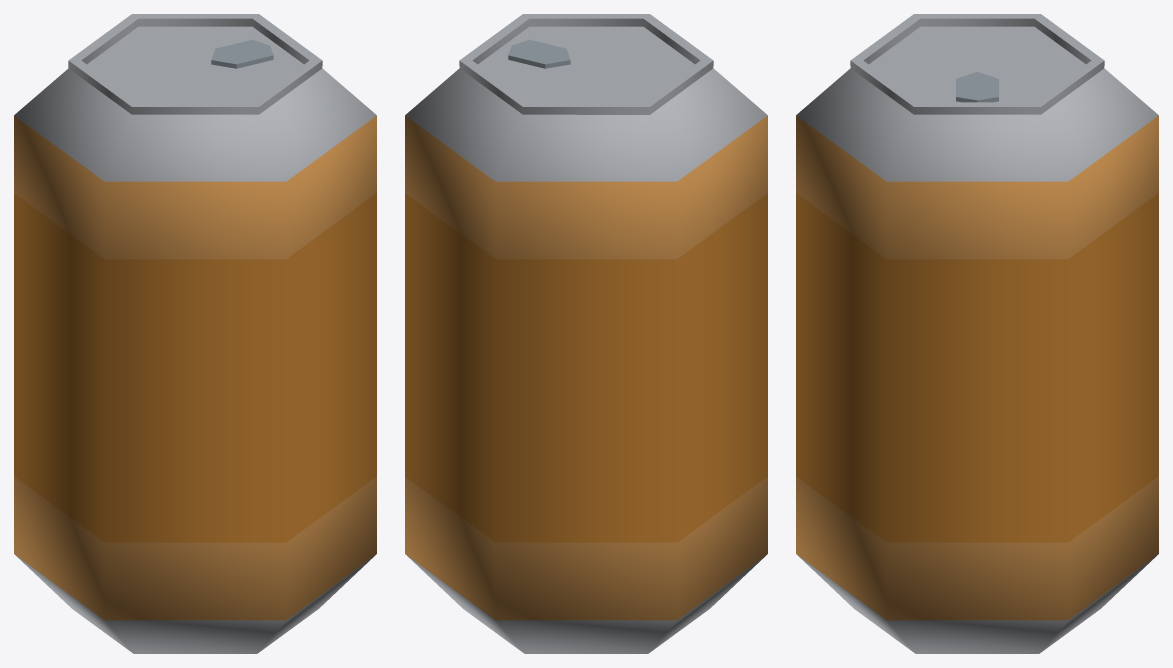
File: orange_can.fbx
The picture shows the model from 3 angles, left to right: view 1: azimuth 30°, elevation 25°; view 2: azimuth 150°, elevation 25°; view 3: azimuth 270°, elevation 25°; orthographic projection.
Visible parts, largest first — view 1: Orange_can; view 2: Orange_can; view 3: Orange_can.
Boxes of the visible parts, box(x1,y1,x2,y2) form: Orange_can: box(14, 14, 376, 653); Orange_can: box(405, 14, 767, 653); Orange_can: box(796, 14, 1158, 653).
Bounding box in the file's own units: 0.3796 × 0.4384 × 0.7306.
